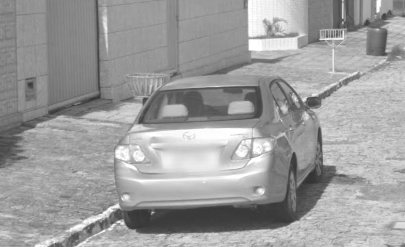car: (109, 72, 331, 233)
